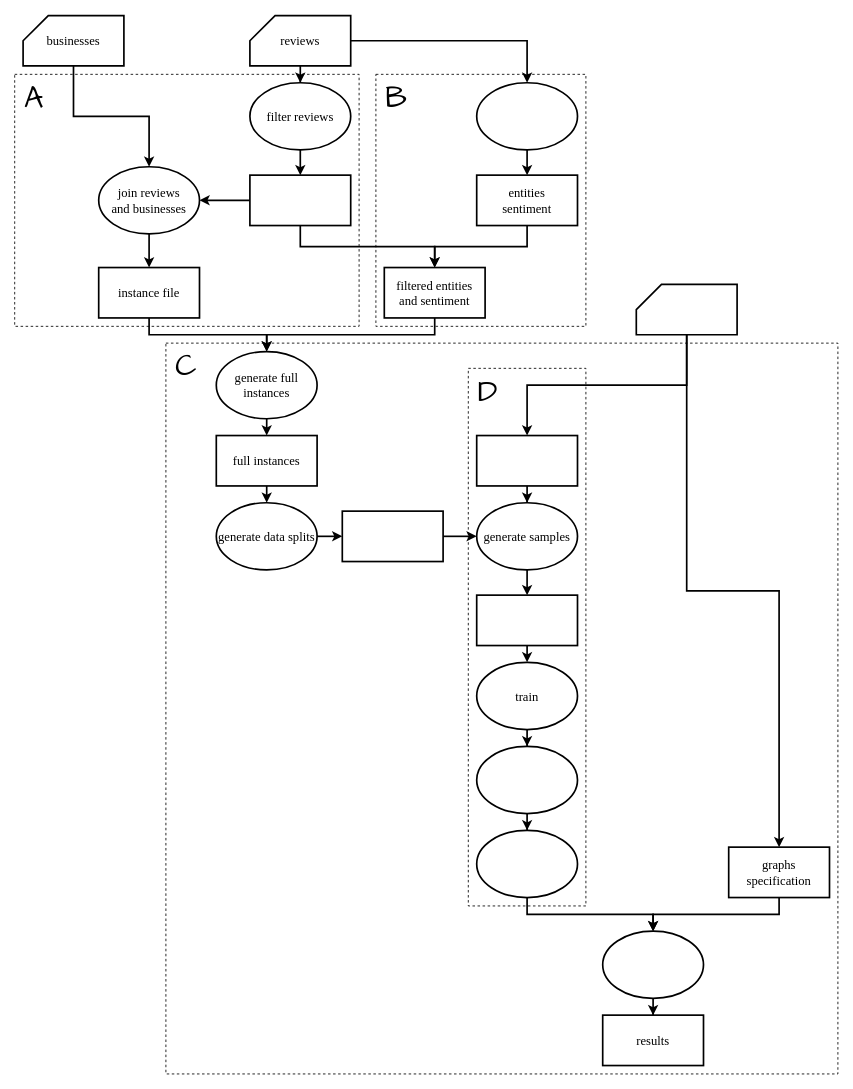
The diagram is 853 pixels wide and 1089 high, and some of its shapes have lost their labels. Here are the shapes that lost their labels. From the top down, the box of each, then its label:
(475, 81, 578, 150): Geneea analysis
(249, 174, 351, 226): filtered reviews
(635, 283, 738, 335): experiments file
(475, 434, 578, 486): classifier configuration
(341, 510, 444, 562): train and test set pairs
(475, 594, 578, 646): preprocessed instances
(475, 745, 578, 814): test
(475, 829, 578, 898): evaluate
(601, 930, 704, 999): plot data
